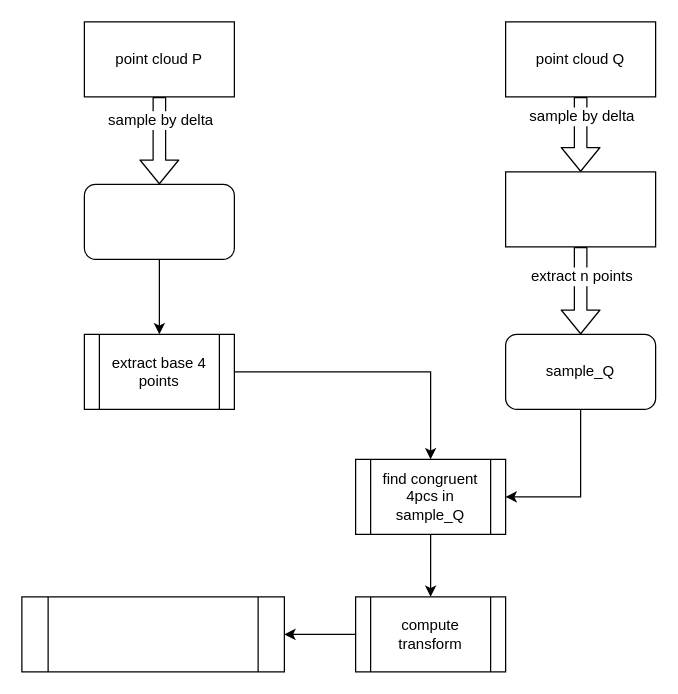
Image size: 678x694. Some labels were removed from this diagram. Each missing label, with the centre of its shape:
LCP verify & update best_lcp LCP sample_Q → sampe_P: the point at 152,634
sample_P: the point at 158,221
tmp point cloud: the point at 580,209
